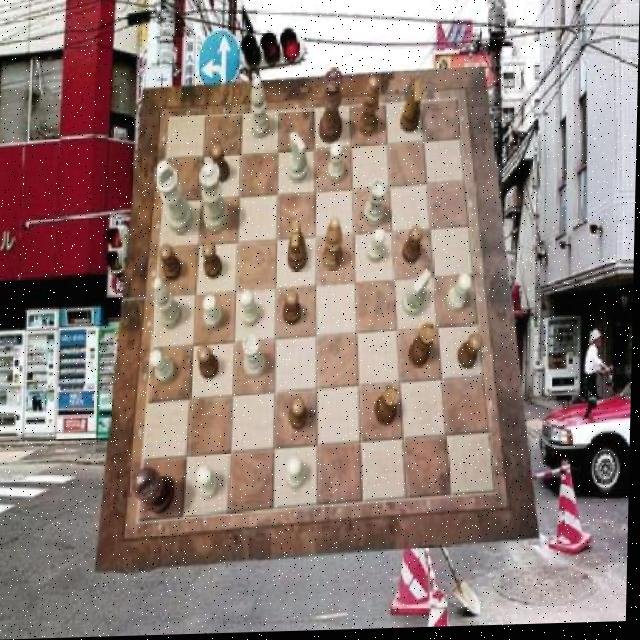bishop: (359, 79, 380, 138), (323, 219, 345, 274)
black-bishop: (134, 468, 177, 516)
black-king: (400, 84, 422, 137), (289, 222, 310, 275)
black-knight: (460, 335, 485, 371), (160, 245, 183, 282), (211, 146, 231, 186), (198, 347, 221, 381), (403, 229, 423, 267), (203, 244, 223, 281), (284, 292, 303, 327), (291, 399, 310, 433)
black-pawn: (320, 70, 345, 147)
black-queen: (410, 325, 438, 370), (377, 387, 402, 428)
black-rook: (154, 278, 186, 332), (251, 78, 273, 140)
white-bishop: (156, 160, 196, 236)
white-king: (404, 271, 432, 318), (289, 134, 310, 186)
white-knight: (448, 275, 473, 313), (150, 351, 177, 386), (197, 467, 221, 501), (242, 291, 263, 329), (205, 296, 226, 331), (329, 146, 347, 186), (288, 459, 309, 492), (368, 230, 387, 265)
white-pawn: (200, 164, 232, 235)
white-queen: (365, 183, 388, 230), (244, 336, 269, 379)
